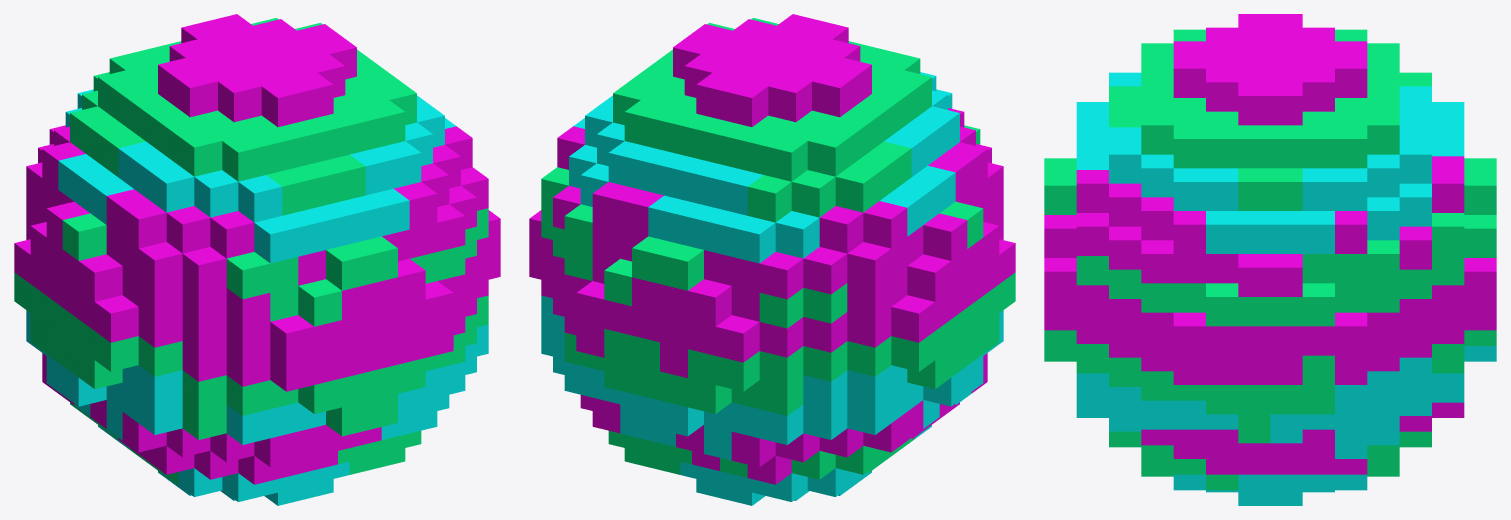
File: planetas-14-colorido.obj
3 views of the same model, side by side, from view 1: azimuth 30°, elevation 25°; view 2: azimuth 150°, elevation 25°; view 3: azimuth 270°, elevation 25° (orthographic).
Size of the model in its own units: 1.4 by 1.4 by 1.4.
Materials: 1 (1 with a texture image).
